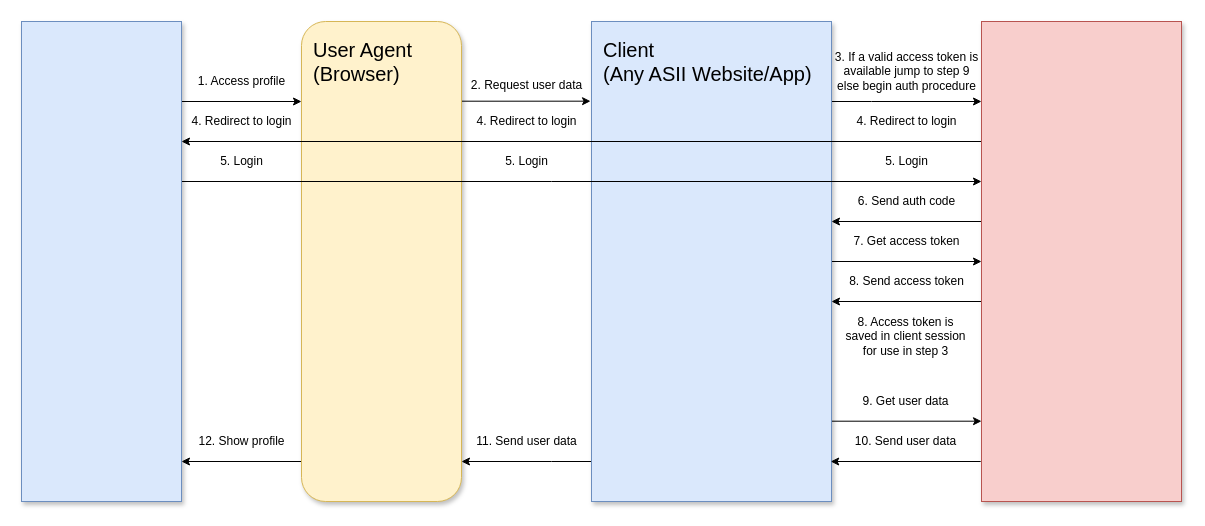
This 1205x526 diagram has some shape labels left out. Here are the shapes that lost their labels. From the top down, the centre of each, then its label:
the point at 102,262: User (Human)
the point at 1082,262: ASII OAuth Server (Our job)
